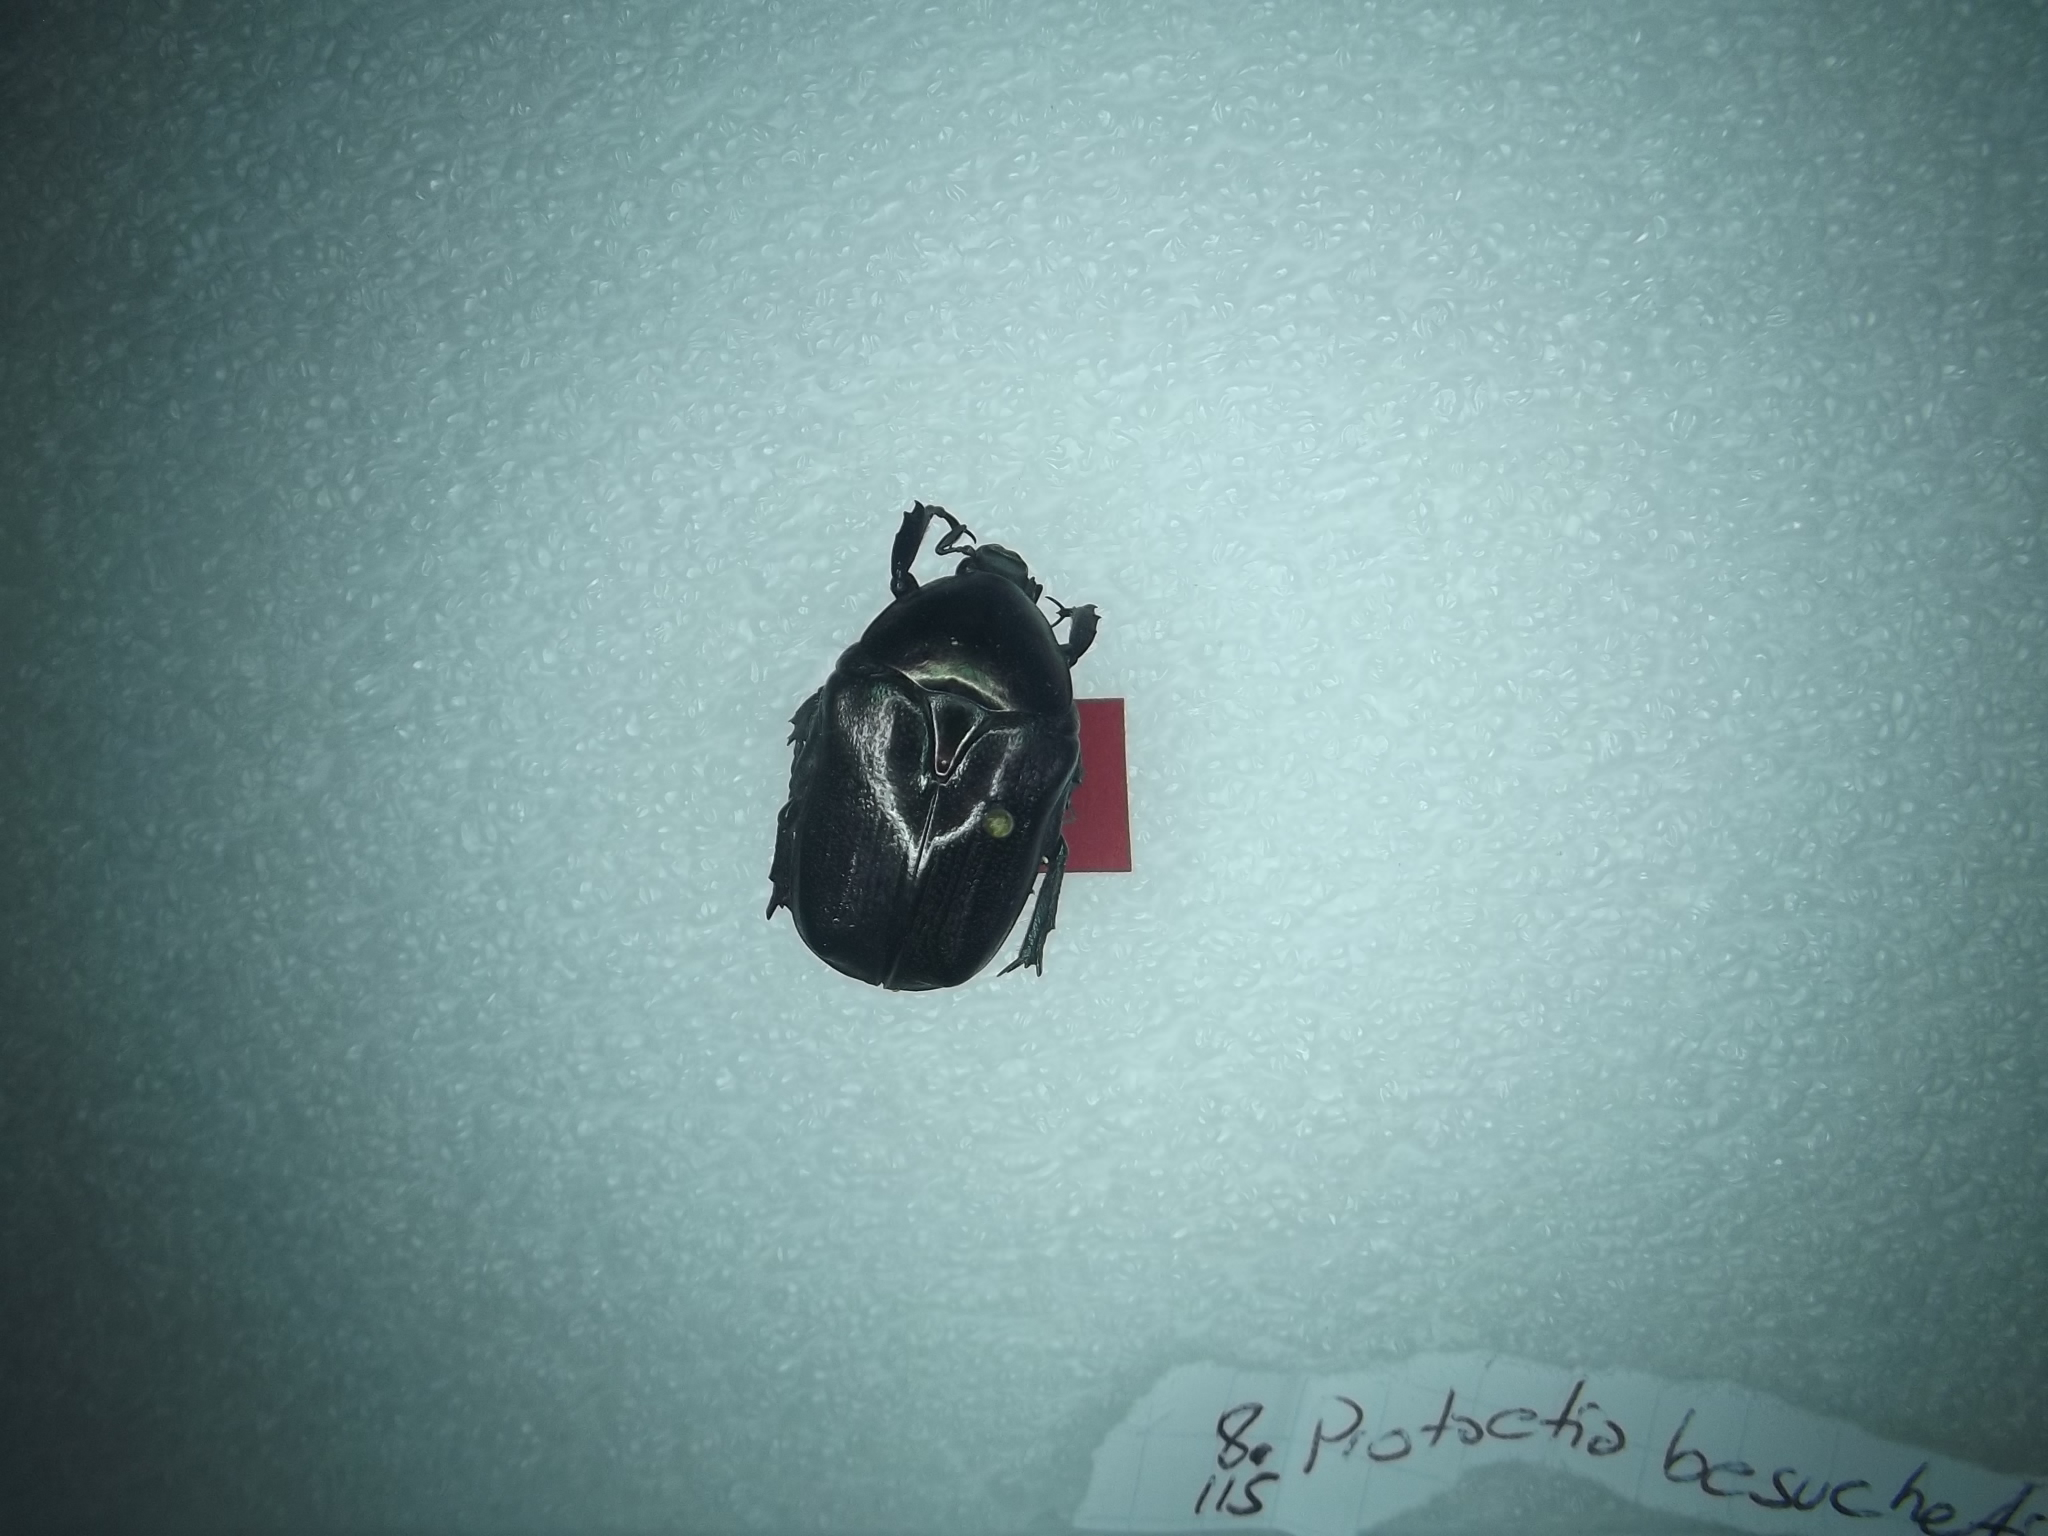Protaetia_besucheti: (768, 470, 1109, 999)
